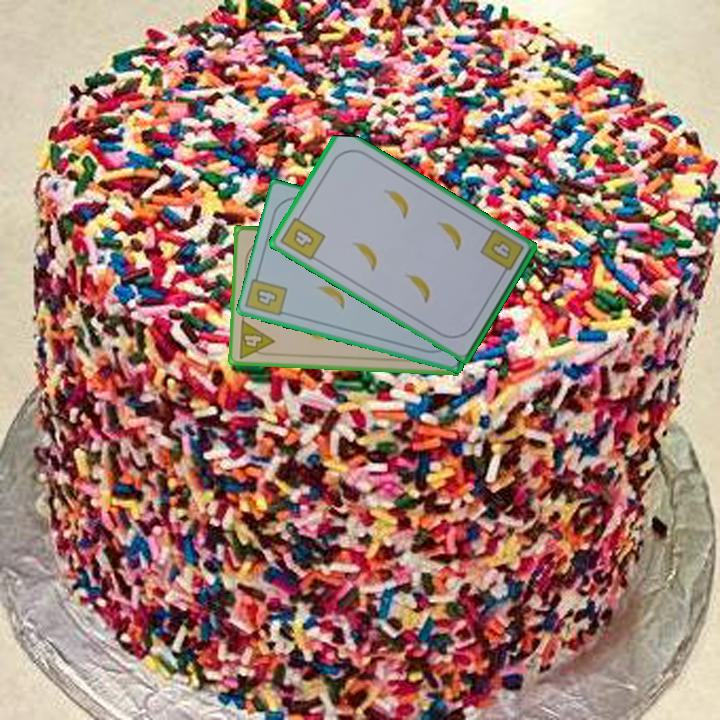4b: (277, 208, 328, 263), (476, 225, 527, 280), (252, 285, 280, 309)
4p: (235, 316, 277, 361)
